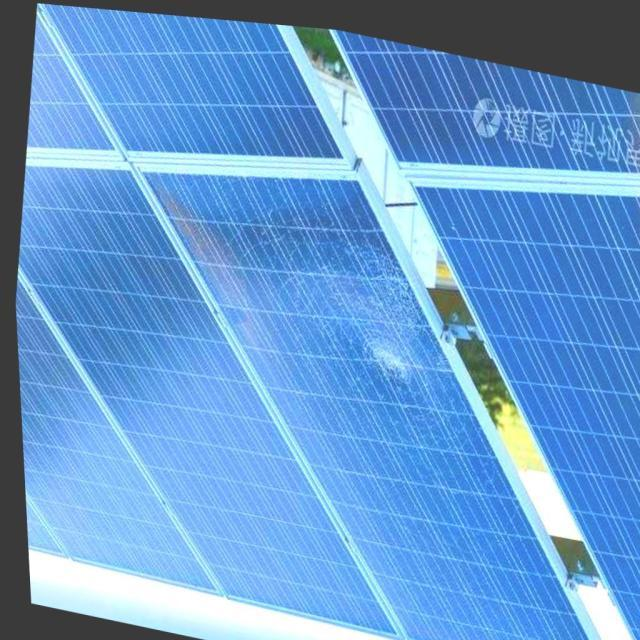cracked: (142, 167, 578, 640)
